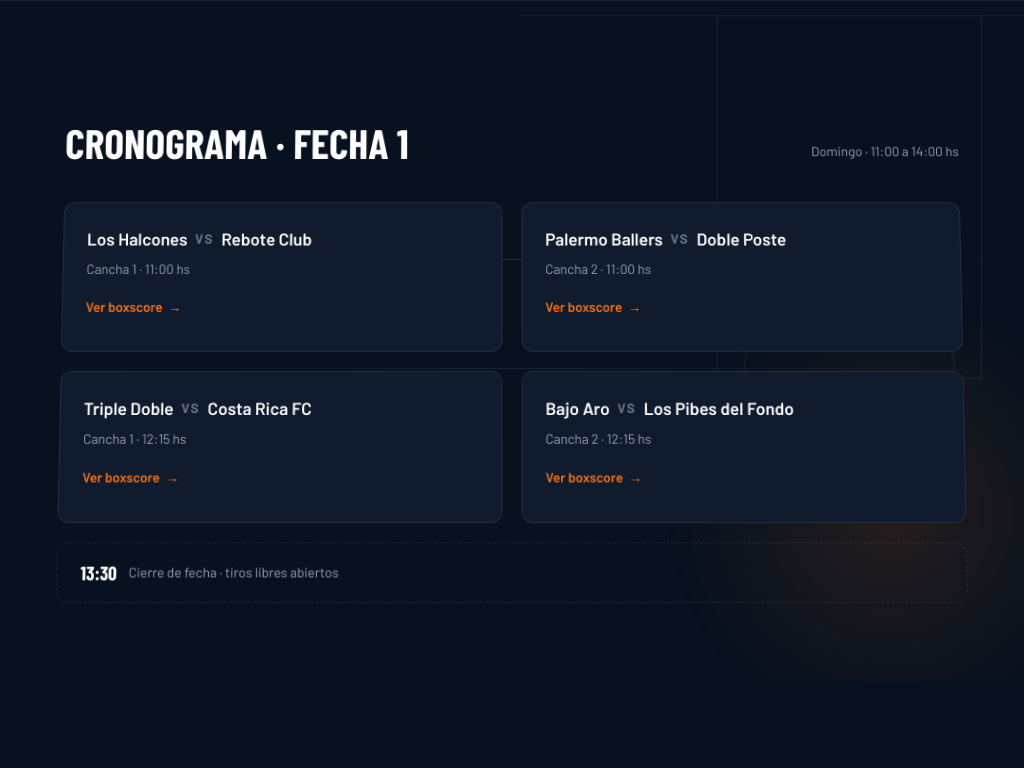
Test: Schedule › abre y cierra el boxscore de un cruce
Click the button "Ver boxscore →" below "Los Halcones": click(134, 307) [85,286,182,328]
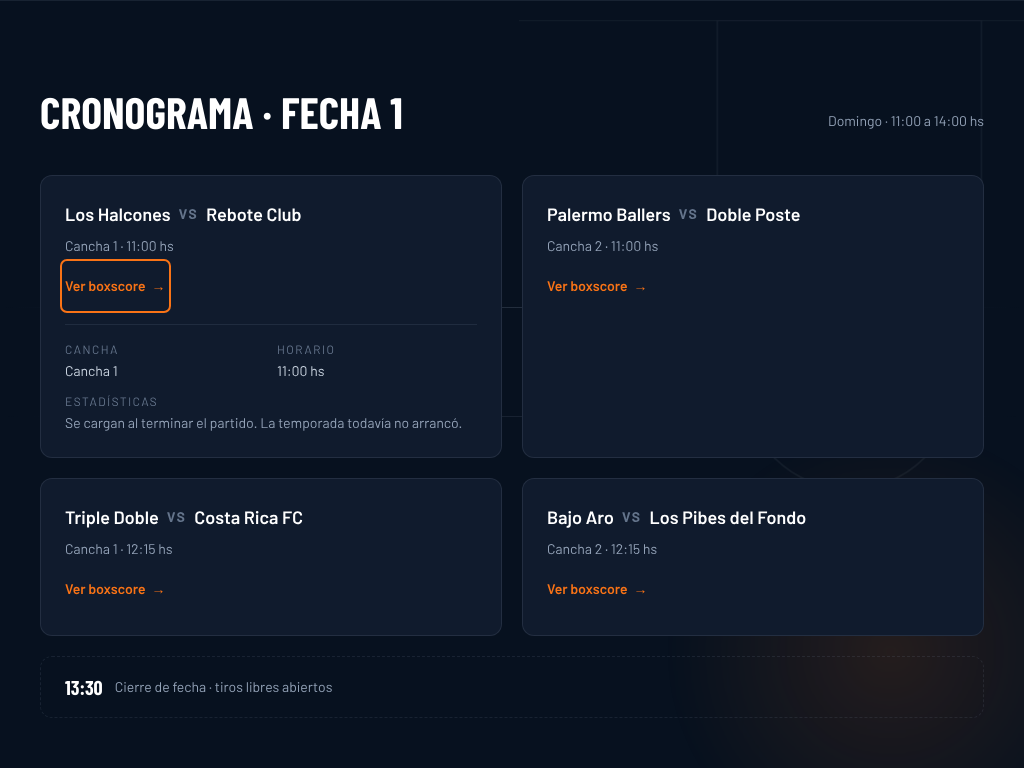
Expected: the button "Ver boxscore →" below "Los Halcones" is expanded
Expected: the text "Se cargan al terminar el partido" is shown, [65,414,462,431]
Click the button "Ver boxscore →" below "Los Halcones": click(115, 286) [65,264,166,308]
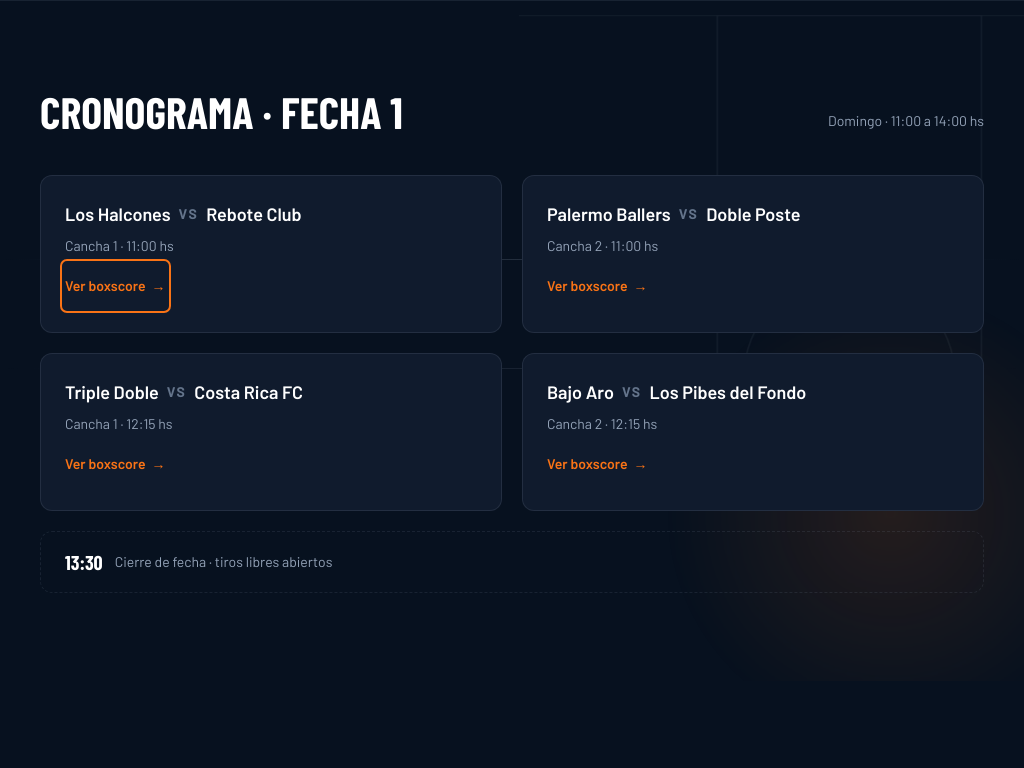
Expected: the button "Ver boxscore →" below "Los Halcones" is collapsed, [65,264,166,308]
